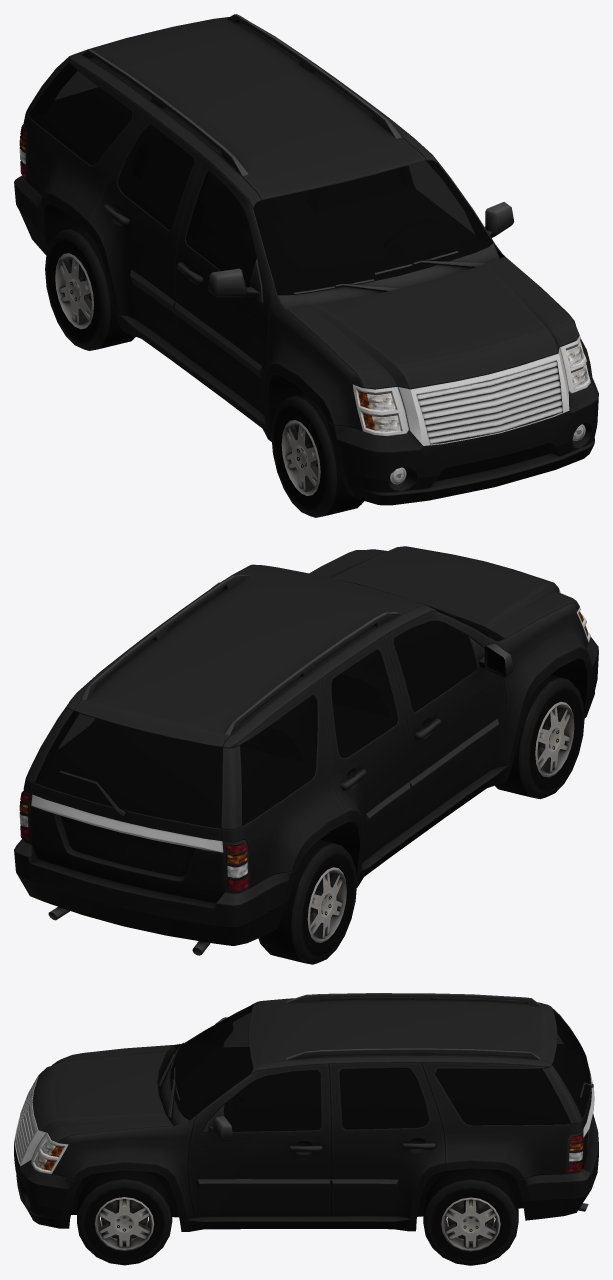
File: car1.glb
3 renders of one model, top to bottom at view 1: azimuth 30°, elevation 25°; view 2: azimuth 150°, elevation 25°; view 3: azimuth 270°, elevation 25°, orthographic. The views are drawn at different scales.
Parts seen in each view (by area): view 1: SUV Body, front_wheels, rear_wheels; view 2: SUV Body, rear_wheels, front_wheels; view 3: SUV Body, rear_wheels, front_wheels.
Boxes of the visible parts, x1,y1,x2,y2 form: SUV Body: (14, 14, 598, 505); front_wheels: (271, 393, 364, 517); rear_wheels: (45, 226, 135, 350); SUV Body: (14, 546, 598, 955); rear_wheels: (258, 840, 356, 964); front_wheels: (495, 675, 584, 799); SUV Body: (14, 993, 598, 1247); rear_wheels: (423, 1168, 518, 1265); front_wheels: (77, 1170, 172, 1265).
Size of the model in its own units: 2.07 by 1.73 by 4.61.
4 materials, 3 textured.
